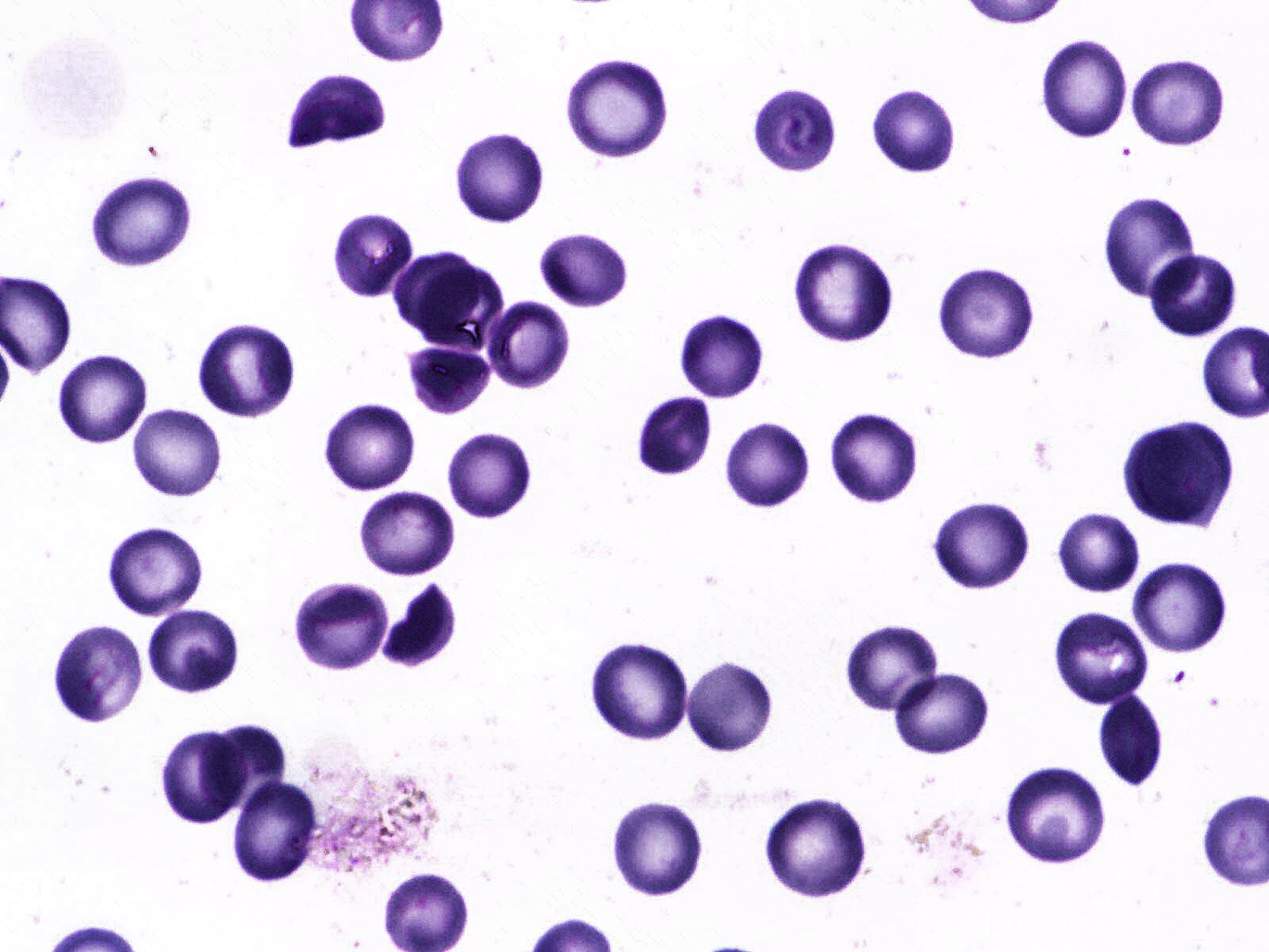Uninfected: (1124, 416, 1238, 527), (762, 794, 875, 903), (566, 54, 671, 159), (587, 639, 691, 744), (1003, 765, 1109, 868), (794, 242, 895, 345), (1130, 557, 1233, 656), (1039, 33, 1130, 145), (674, 305, 773, 405), (90, 174, 194, 269), (105, 522, 204, 621), (611, 798, 708, 899), (198, 322, 297, 420), (932, 497, 1032, 593), (941, 266, 1037, 363), (454, 128, 547, 227), (841, 622, 941, 714), (1133, 56, 1232, 148), (828, 409, 922, 505), (54, 354, 151, 447), (289, 582, 386, 674), (1106, 198, 1194, 298), (1056, 614, 1148, 709), (891, 669, 991, 756), (132, 407, 227, 498), (684, 659, 775, 754), (236, 780, 320, 882), (53, 626, 140, 724), (146, 607, 242, 694), (358, 491, 452, 579), (873, 84, 961, 177), (535, 228, 634, 309), (724, 420, 813, 510), (333, 209, 420, 301), (1147, 251, 1238, 338), (325, 405, 416, 492), (447, 428, 533, 520), (416, 262, 504, 350), (159, 732, 241, 826), (752, 87, 839, 173), (201, 725, 286, 812), (1056, 509, 1144, 593), (488, 298, 569, 389), (287, 72, 383, 148), (636, 393, 719, 478), (385, 574, 457, 671), (1097, 688, 1167, 787), (391, 251, 478, 330), (410, 347, 489, 416)
